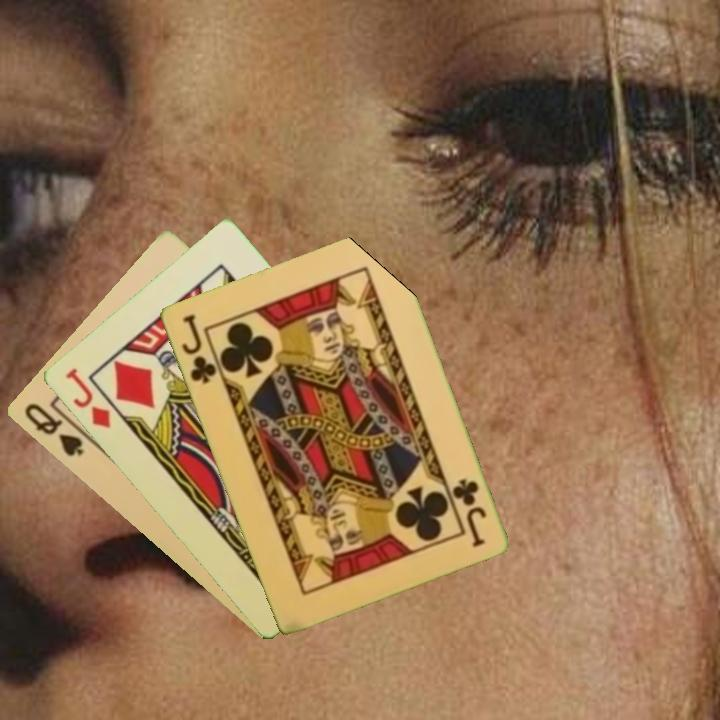Jc: (177, 310, 219, 387), (448, 474, 489, 550)
Jd: (61, 364, 114, 431)
Qs: (20, 399, 87, 460)
